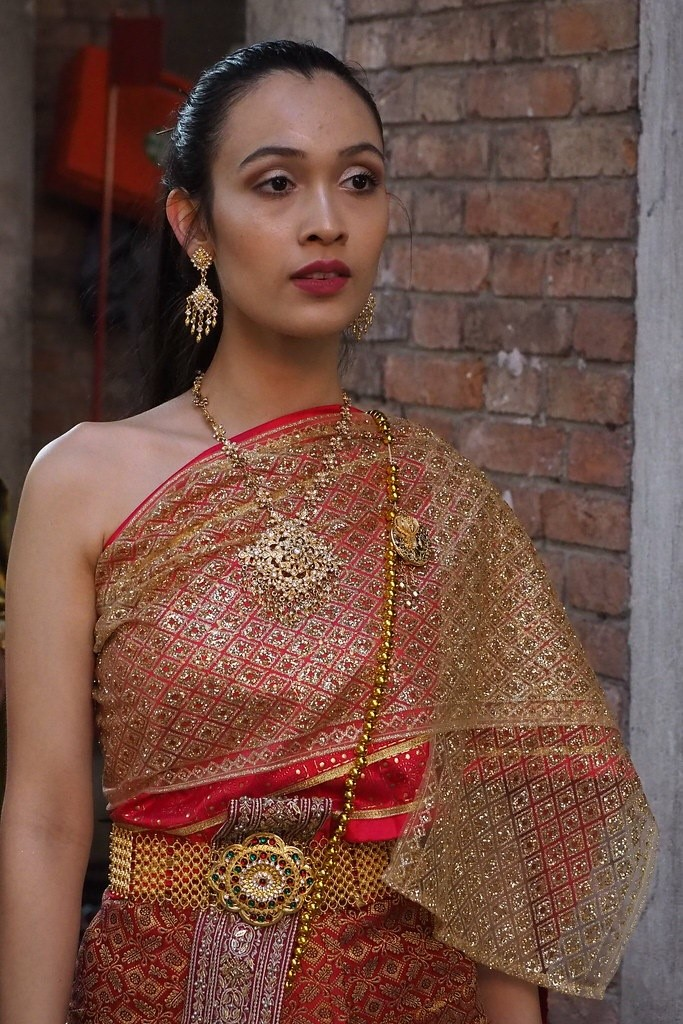face_no_mask: (162, 42, 385, 340)
